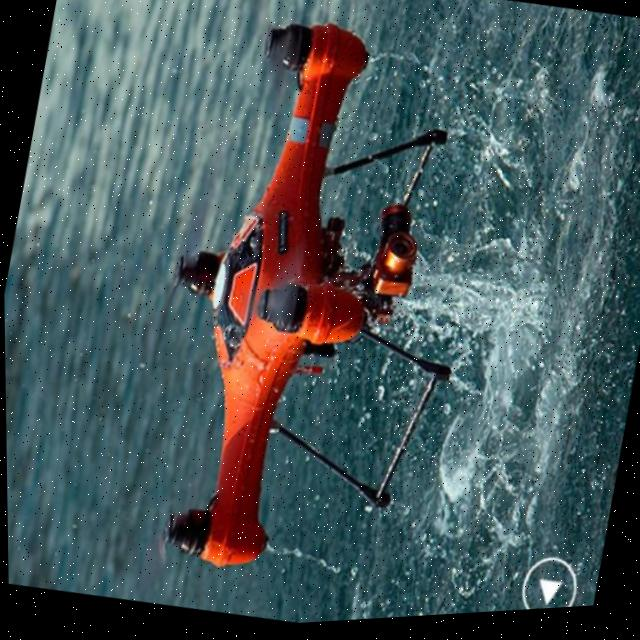drones: (111, 0, 527, 621)
